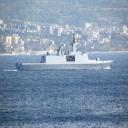Fragata: (15, 27, 116, 73)
